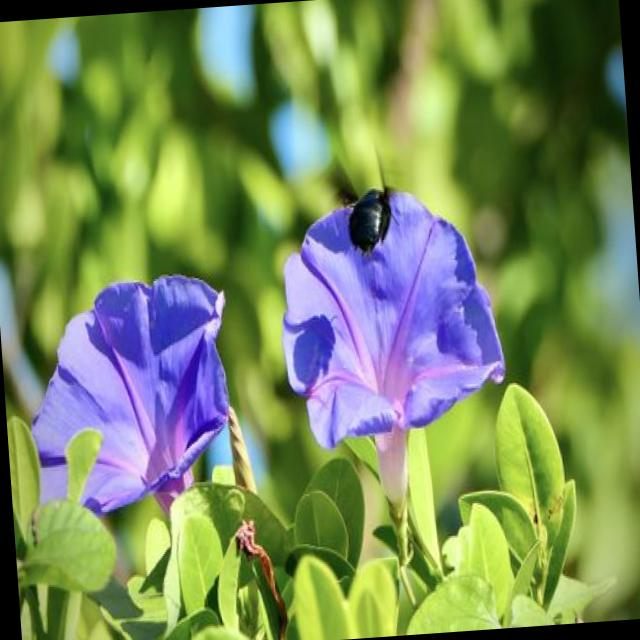ipomoea: (267, 170, 518, 518), (18, 264, 242, 528)
